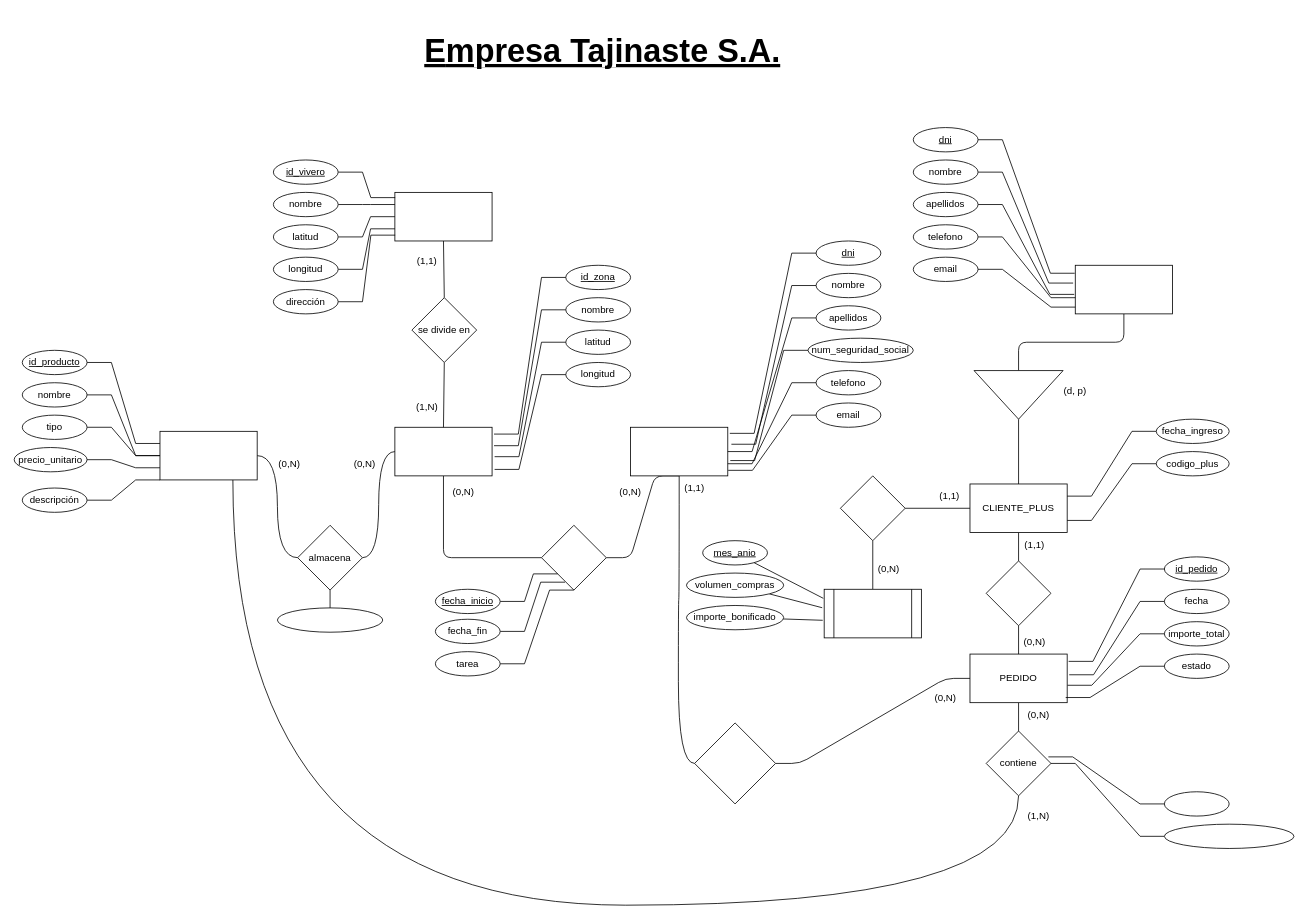
This 1308x919 diagram has some shape labels left out. The centre of each missing label's shape, as x and y in pixels:
"acumula" belongs at (872,508).
"BONIFICACIÓN" belongs at (872,613).
"cantidad" belongs at (1196,803).
"cantidad_disponible" belongs at (330,619).
"CLIENTE" belongs at (1123,289).
"EMPLEADO" belongs at (679,451).
"gestiona el responsable" belongs at (735,763).
"precio_unitario_aplicado" belongs at (1229,835).
"PRODUCTO" belongs at (208,455).
"realiza" belongs at (1018,593).
"trabaja en" belongs at (573,557).
"VIVERO" belongs at (443,216).
"ZONA" belongs at (443,451).
